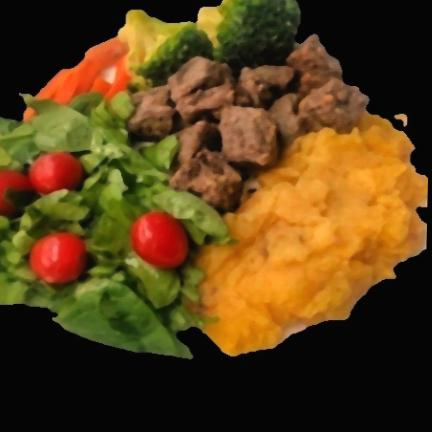broccoli: (120, 0, 301, 94)
carrot: (39, 38, 129, 100)
meat: (127, 34, 368, 211)
potato: (196, 109, 427, 354)
salad: (0, 91, 229, 358)
tomato: (0, 153, 86, 220), (130, 212, 189, 270), (30, 233, 89, 285)
